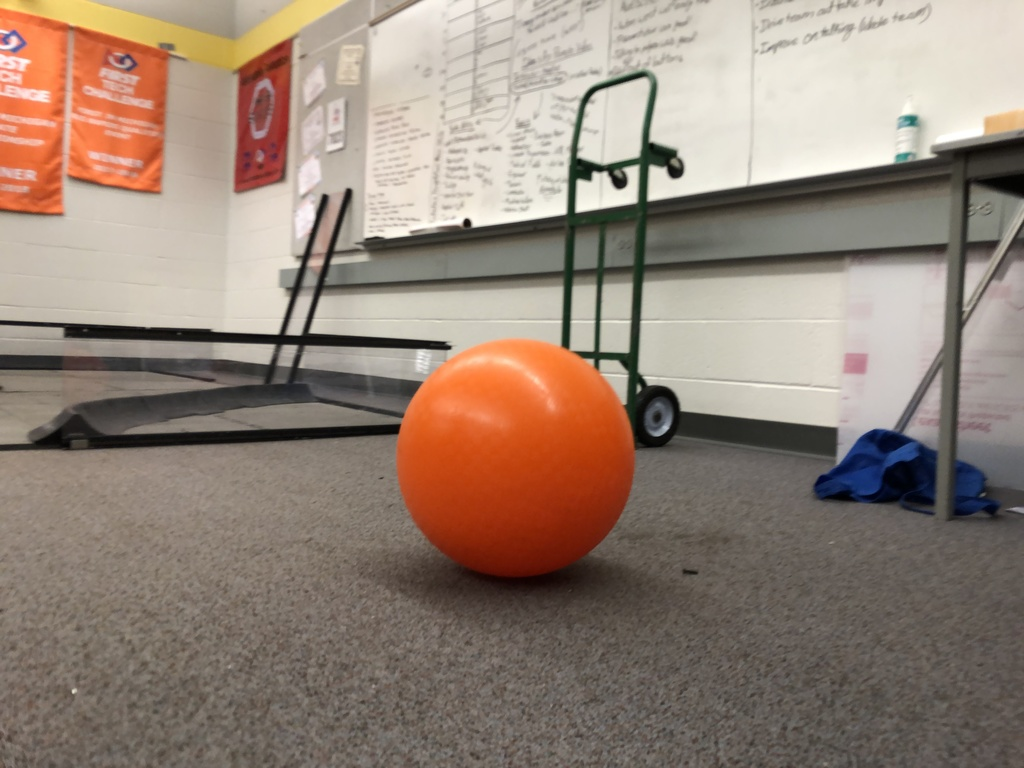cargo: (392, 334, 643, 577)
